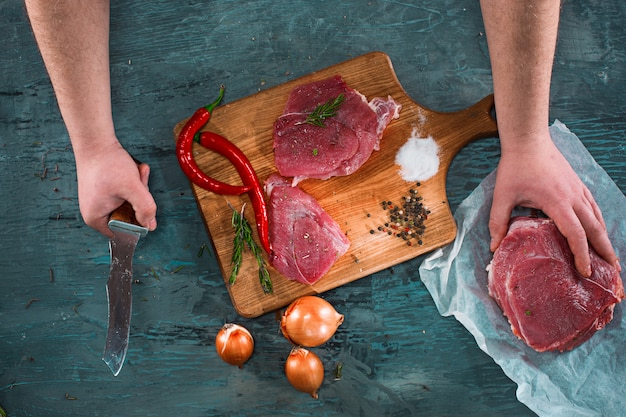knife: (103, 201, 143, 377)
